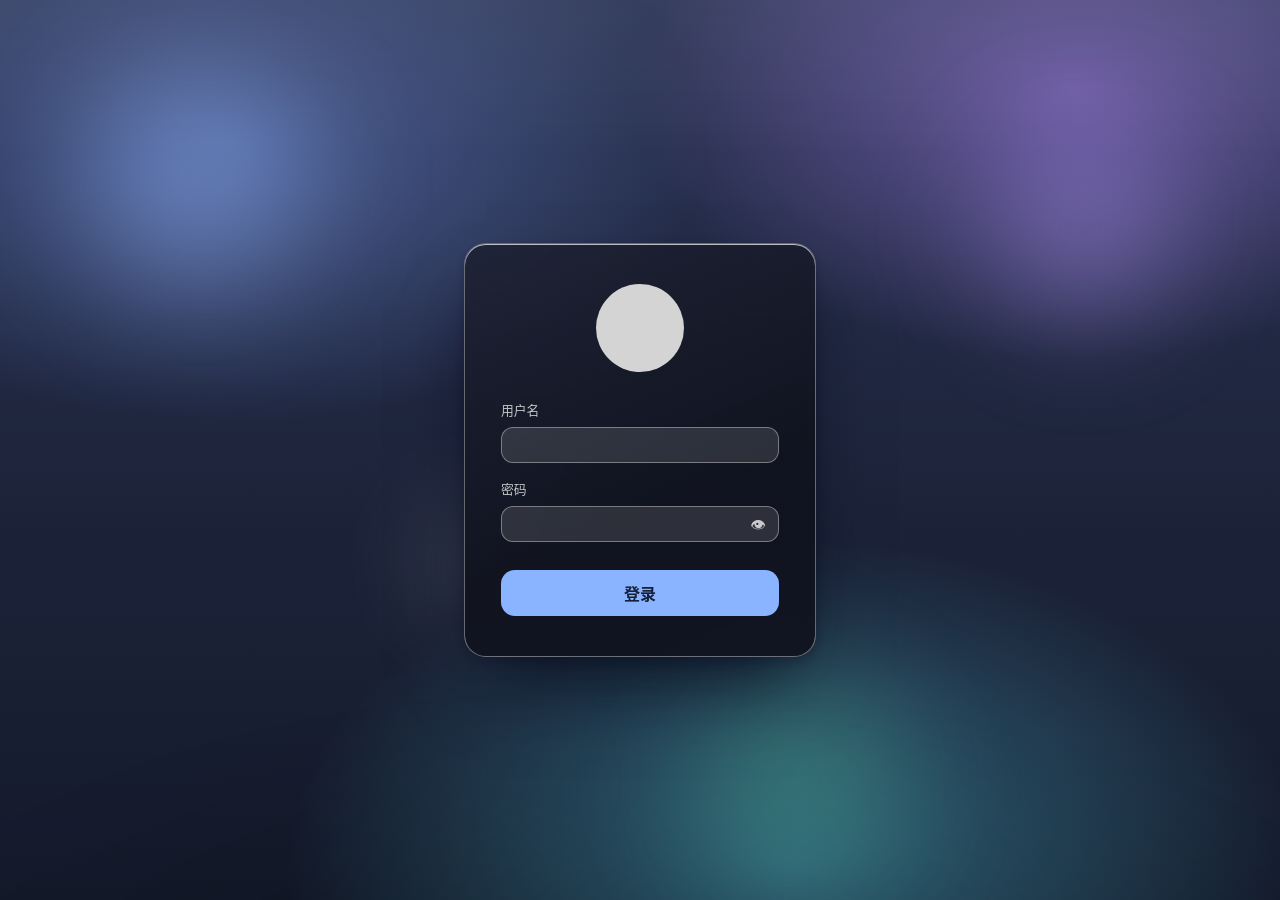
Test: Login.vue › surfaces server error message on failure
Type "nimo" into the field with class "login-username" at (640, 445), box [501,427,779,463]
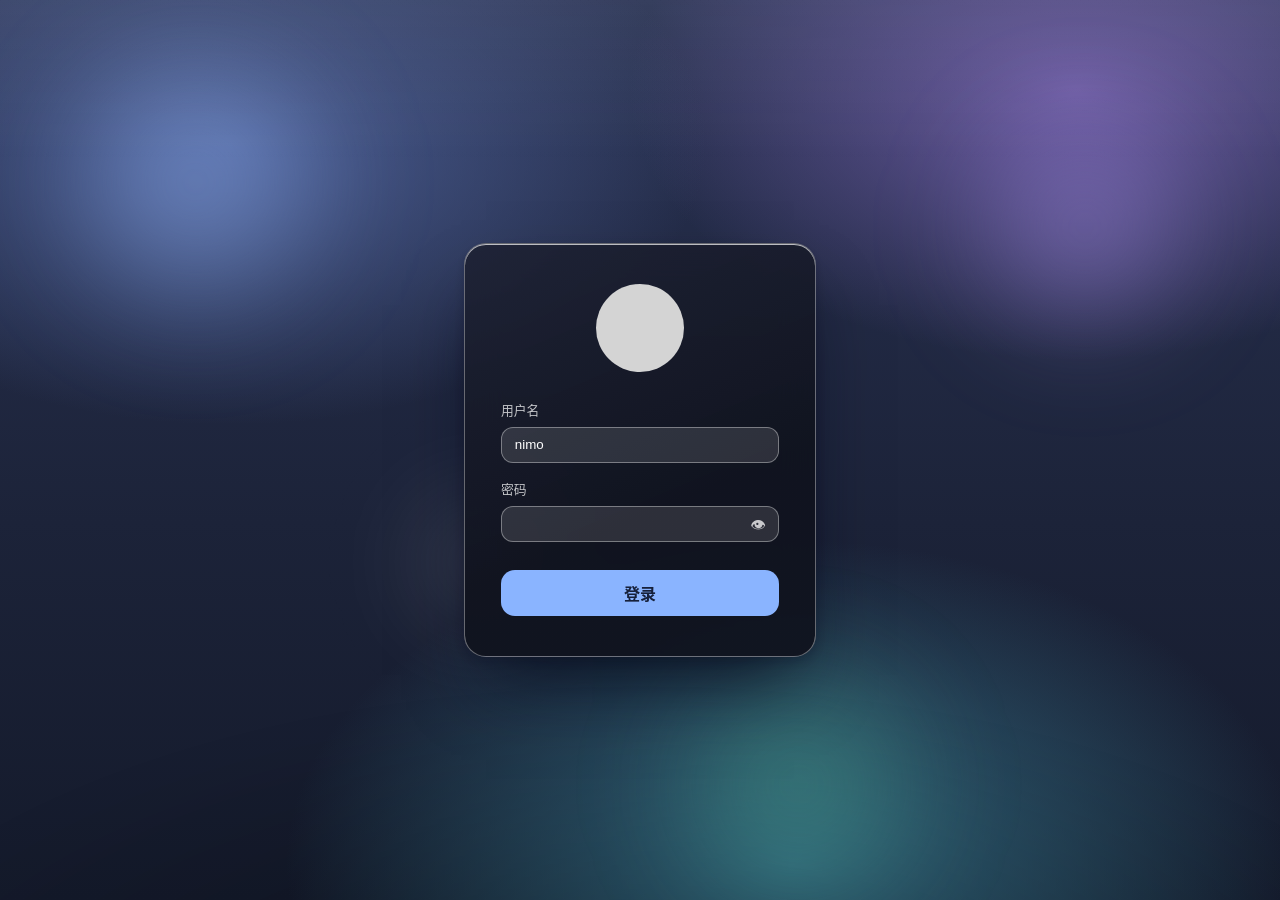
Type "secret1" into the password field with class "login-password" at (640, 524), box [501,506,779,542]
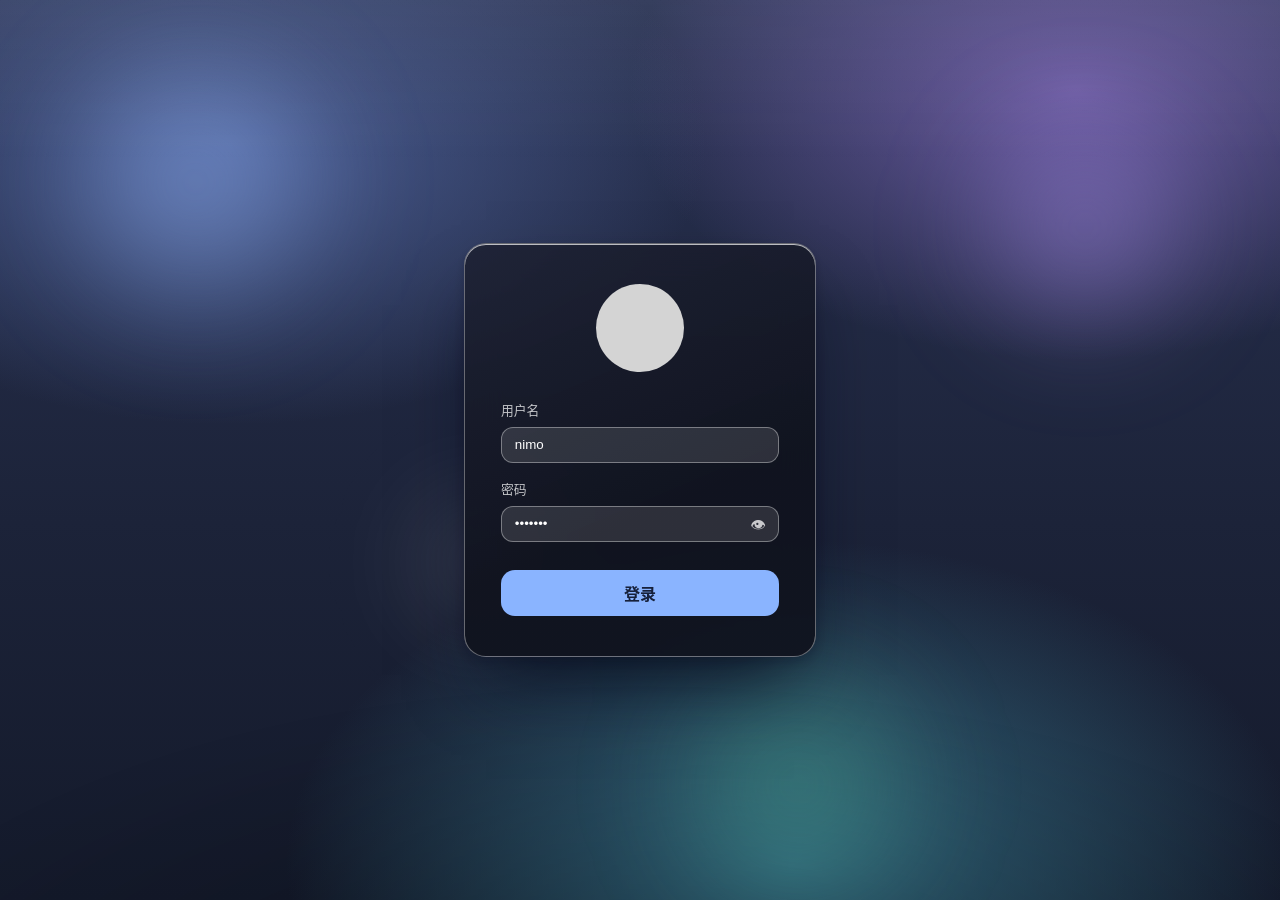
Click the button with class "login-submit" at (640, 593), box [501,570,779,616]
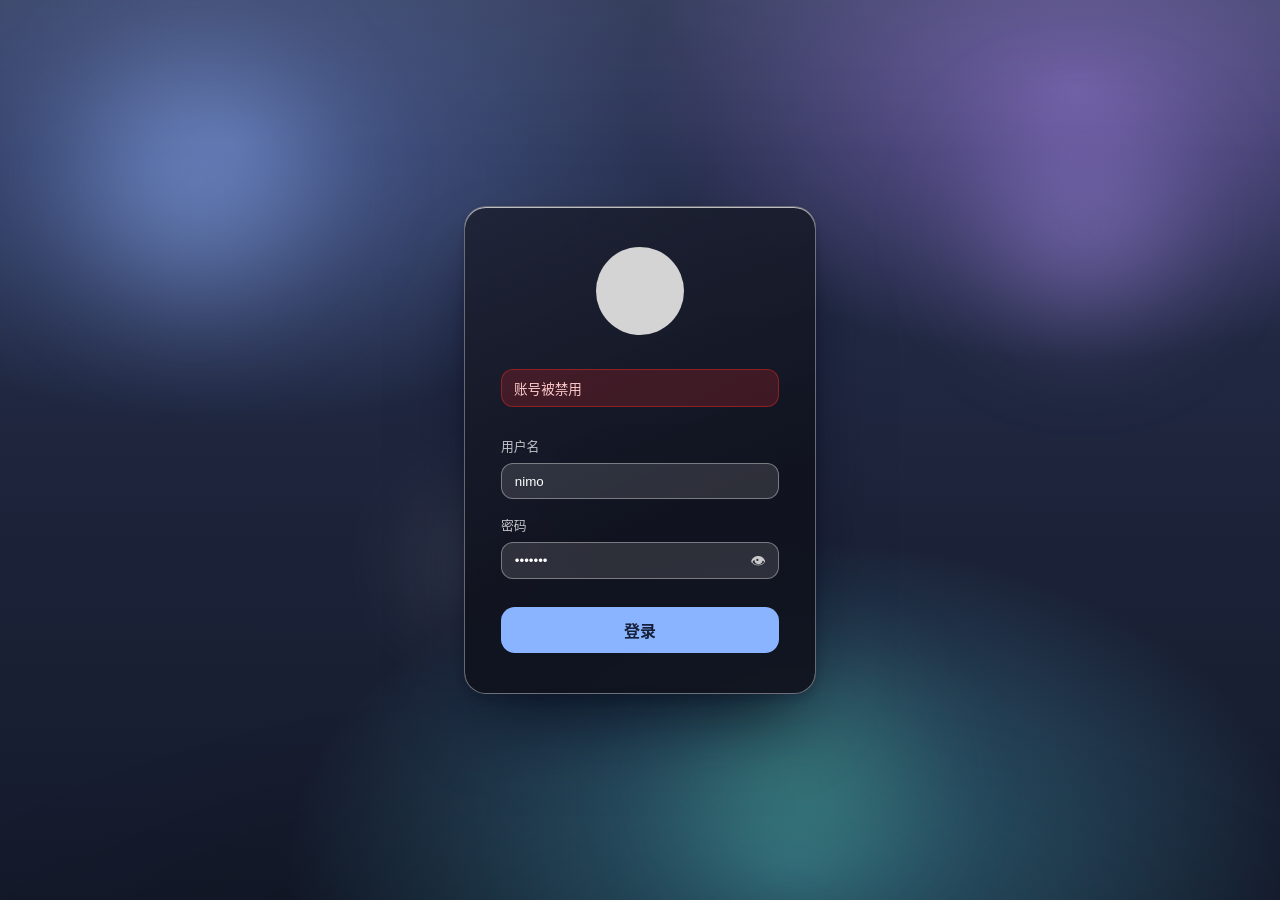
expect the text with class "login-error" reads "账号被禁用": met, box [514,381,582,397]
